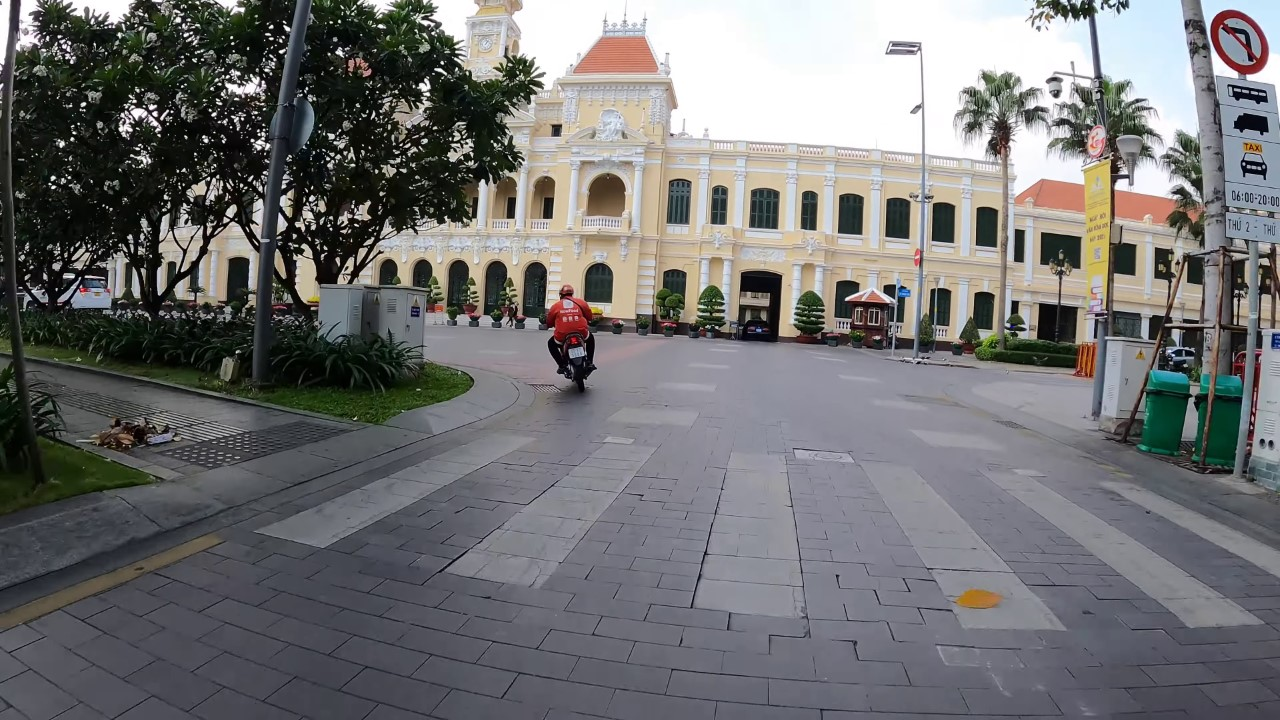cam_re_trai: (1205, 5, 1277, 77)
